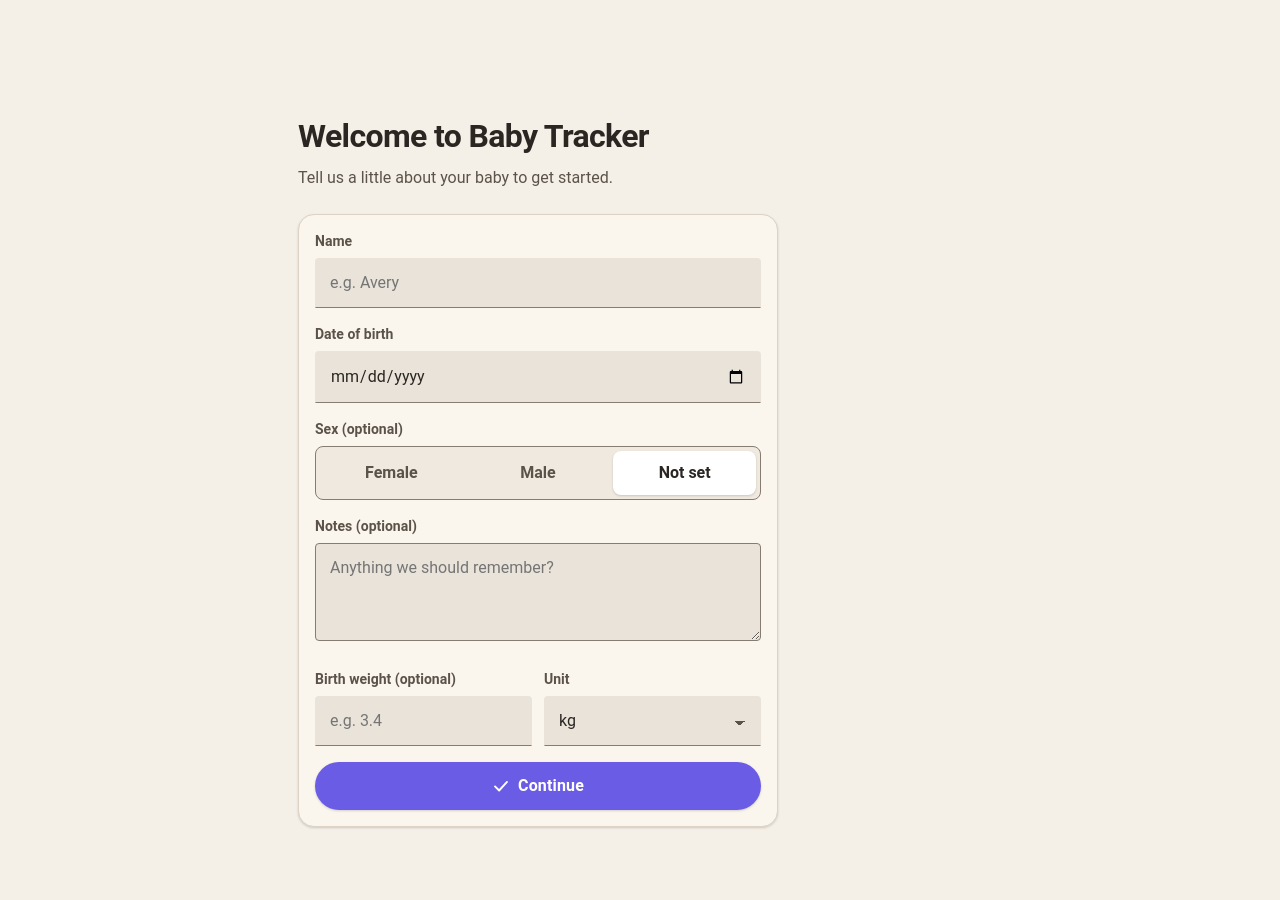
Test case: PDF report section selection › opens a "Report sections" dialog with all twelve checkboxes instead of downloading immediately
Type "Avery" into the field labelled "Name" at (538, 283), box [315, 258, 761, 308]
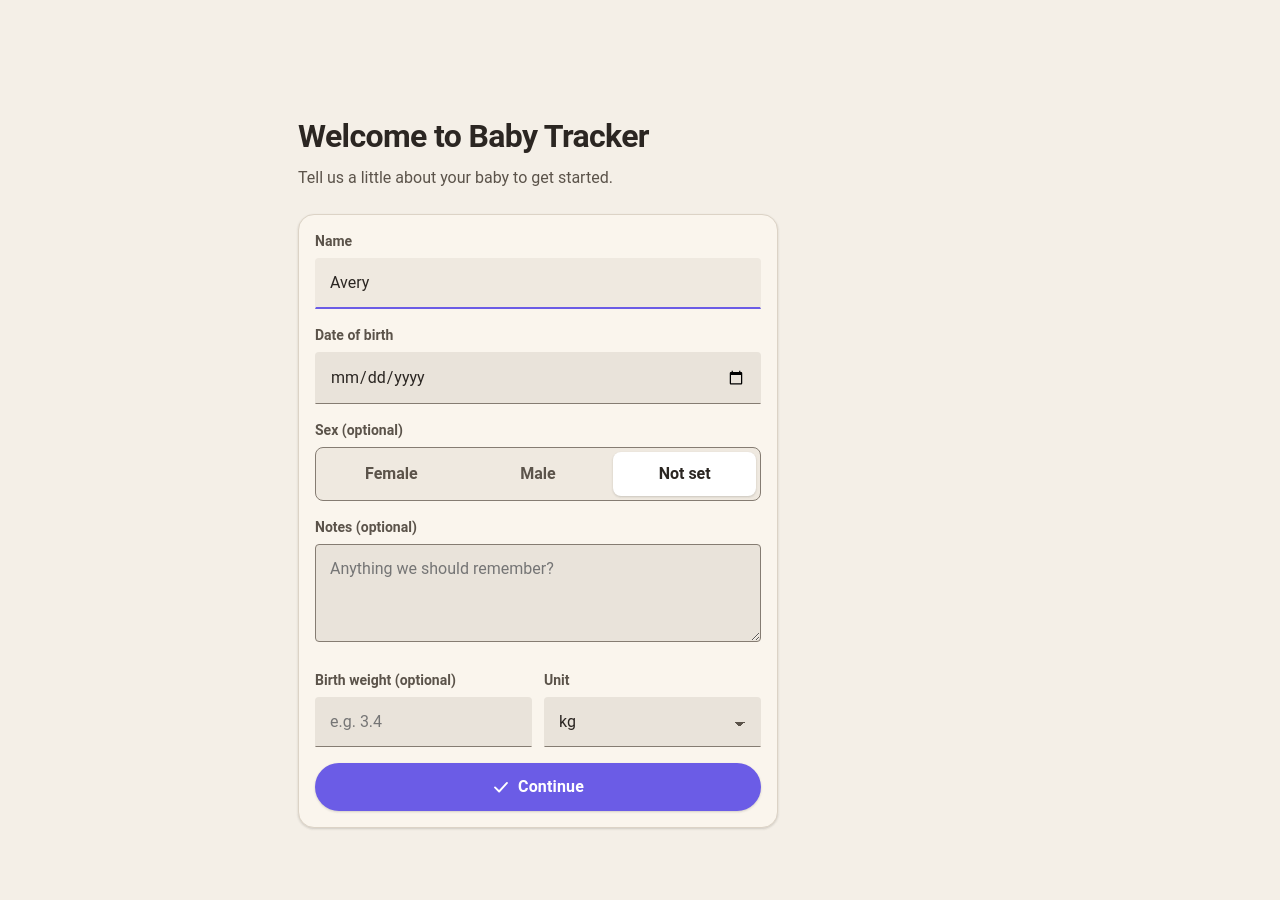
Type "2026-01-15" into the date field labelled "Date of birth" at (538, 378), box [315, 352, 761, 404]
Click the button "Continue" at (538, 787), box [315, 763, 761, 811]
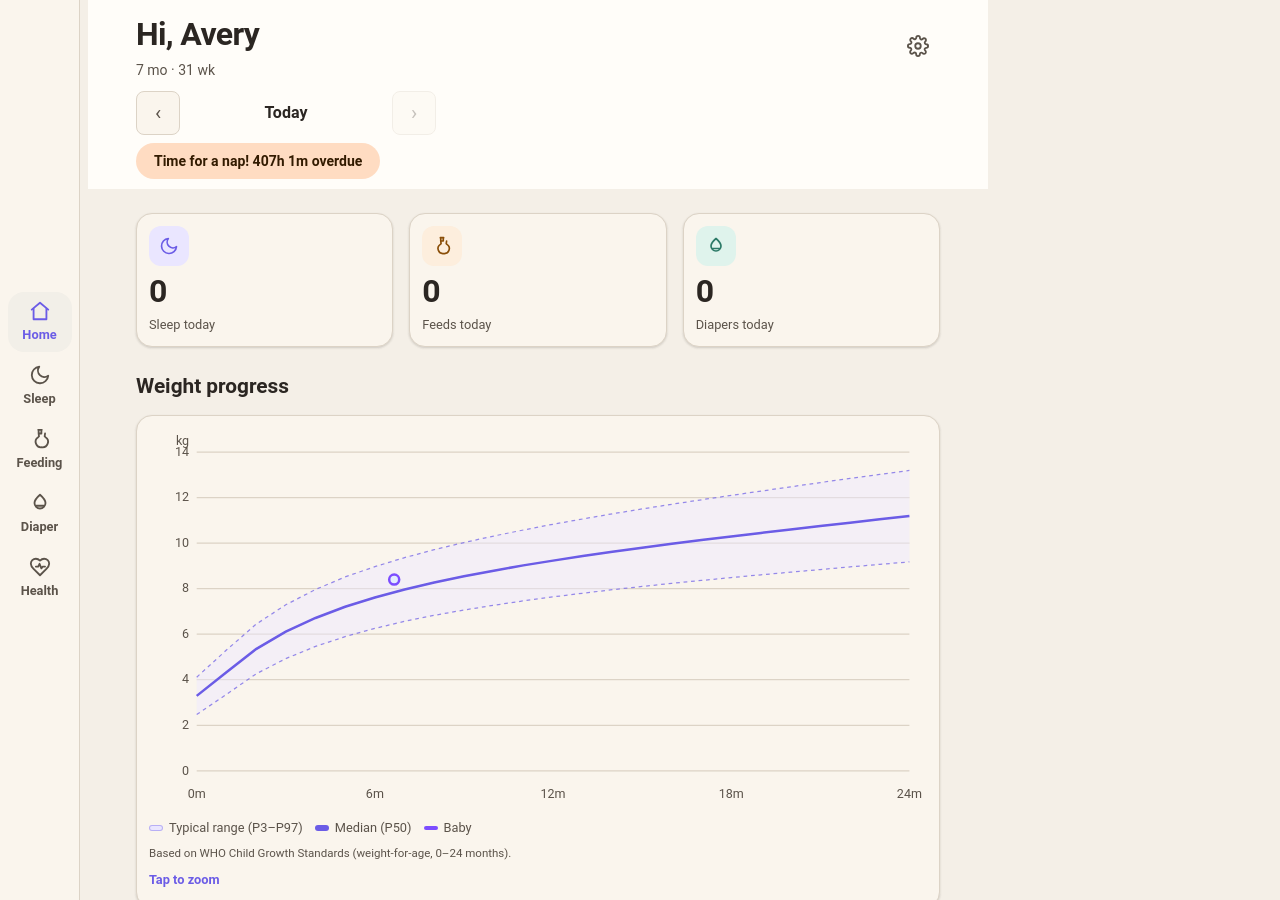
Click the button named "settings" at (918, 46), box [896, 24, 940, 68]
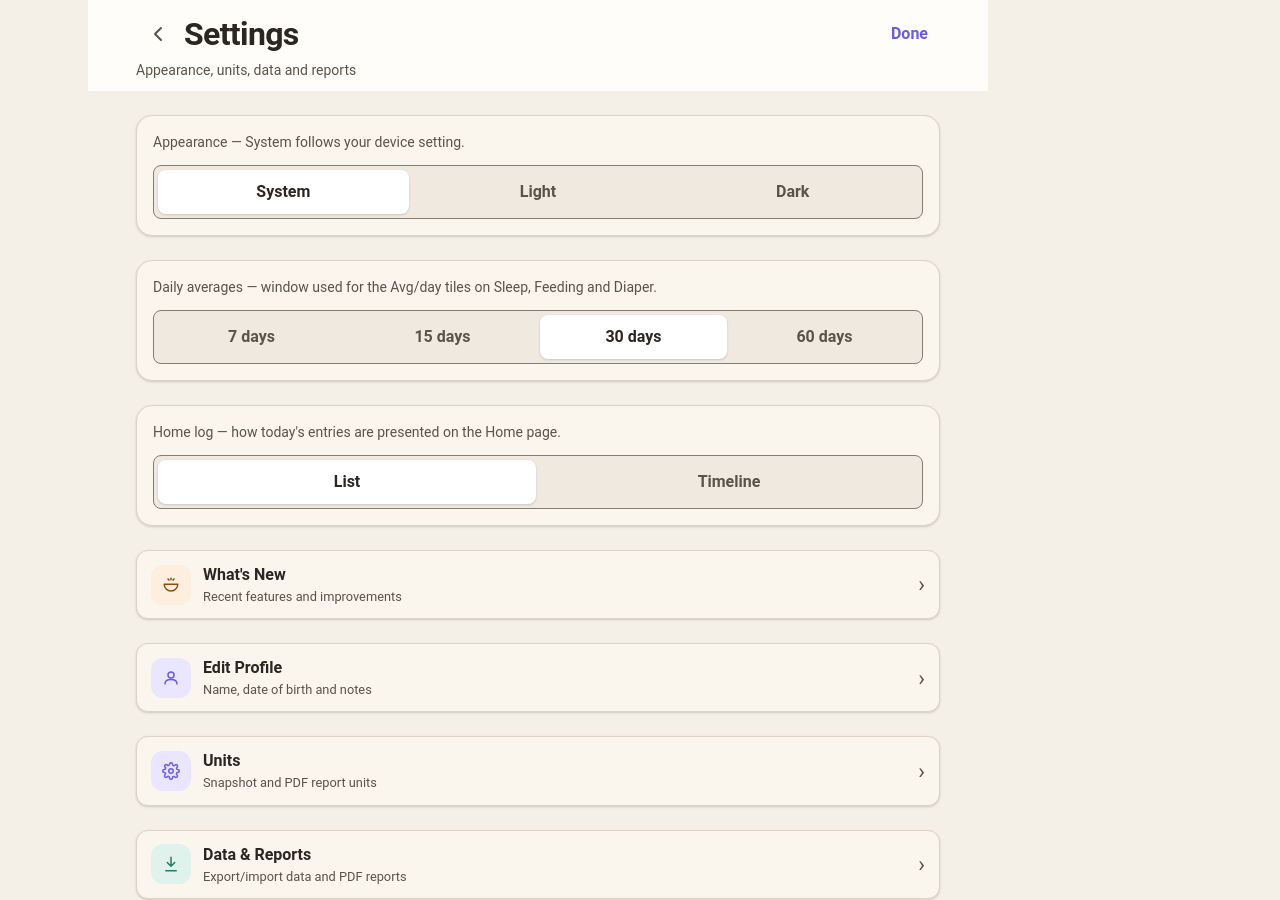
Click the button "Data & reports Export/import data and PDF reports ›" at (171, 864), box [136, 830, 940, 899]
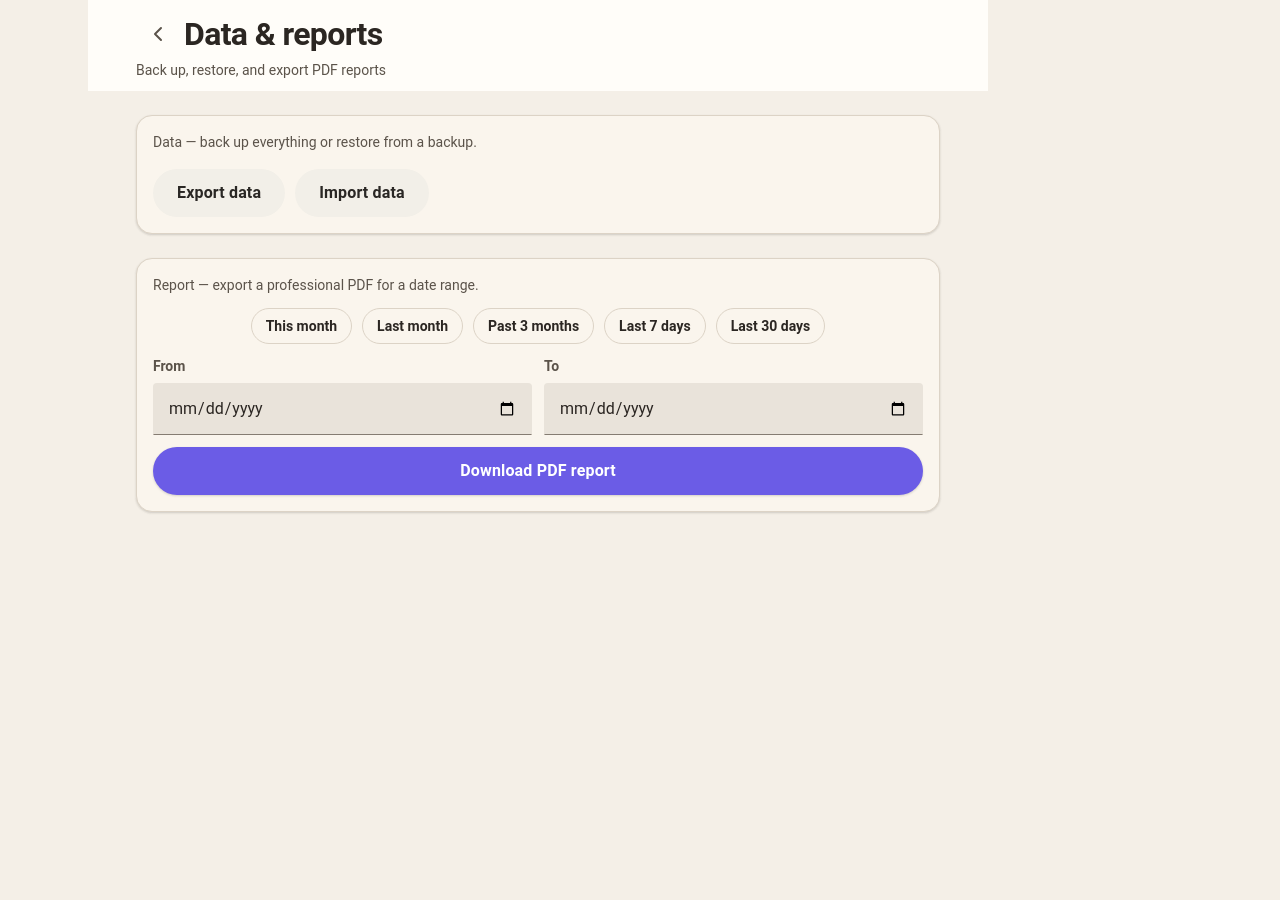
Type "2026-08-01" into the date field labelled "From" at (342, 409), box [153, 383, 532, 435]
Type "2026-08-08" into the date field labelled "To" at (734, 409), box [544, 383, 923, 435]
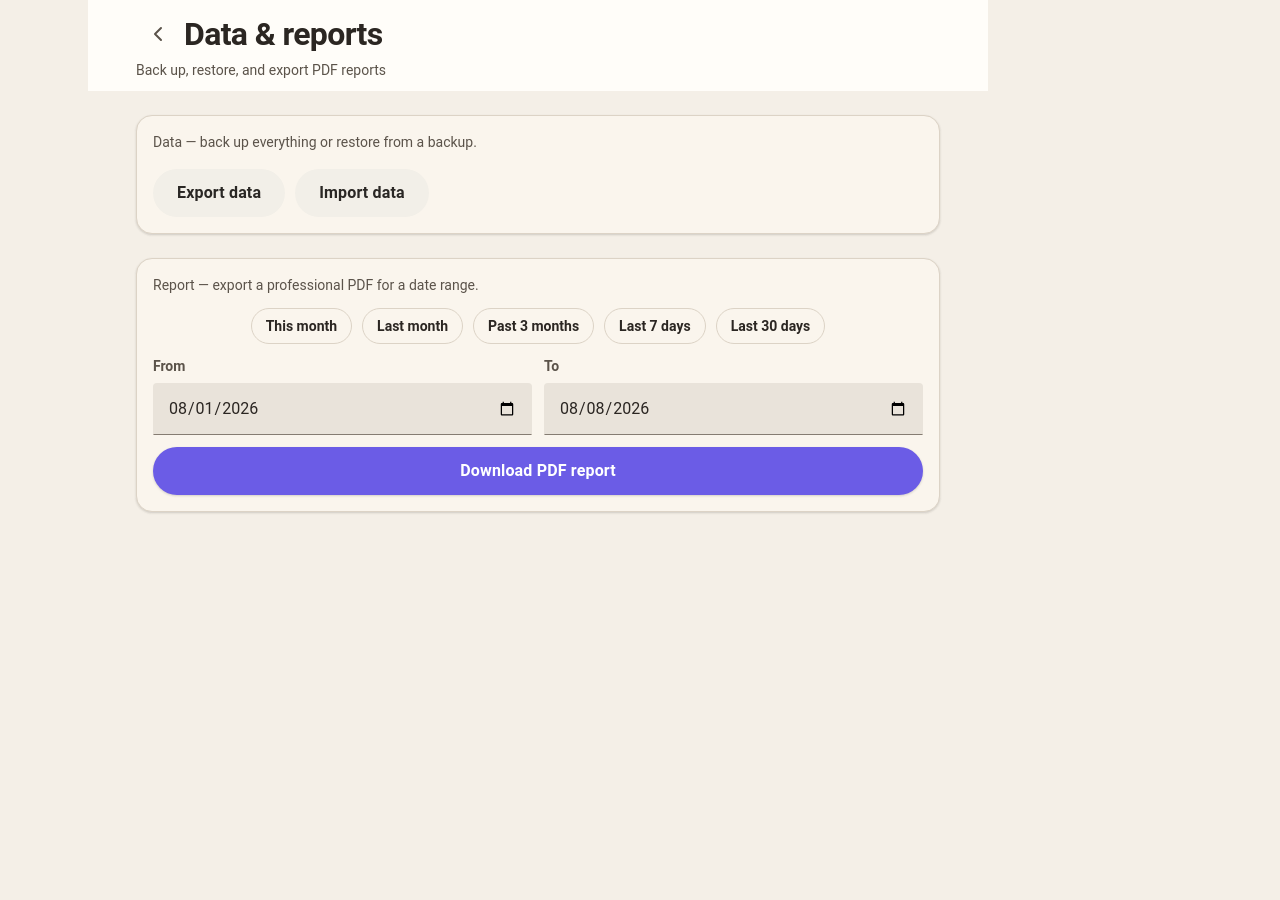
Click the button "Download PDF report" at (538, 471), box [153, 447, 923, 495]
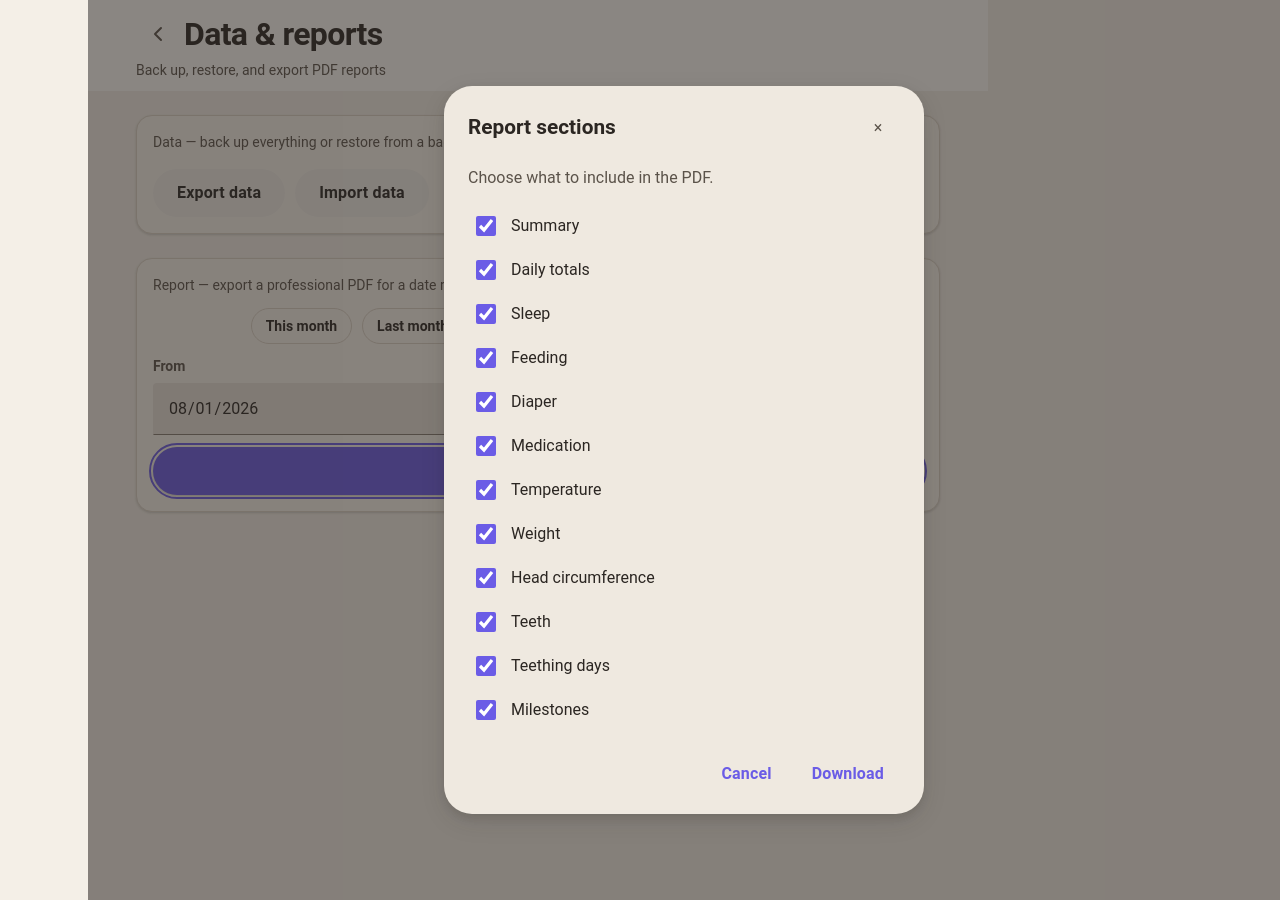
Expected: the dialog "Report sections" is shown, [444, 86, 924, 814]
Expected: the number of checkboxes is 12
Expected: the checkbox labelled "Summary" is checked, [476, 216, 496, 236]
